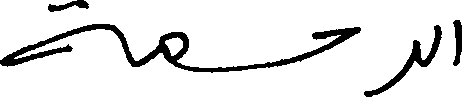ا: (450, 17, 461, 66)
ة: (0, 0, 105, 68)
ح: (309, 25, 358, 57)
ر: (364, 38, 419, 95)
ل: (426, 23, 441, 66)
م: (147, 29, 190, 71)
